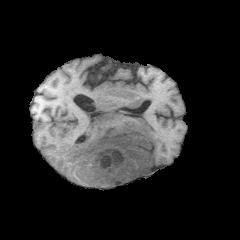glioma: (56, 123, 154, 186)
